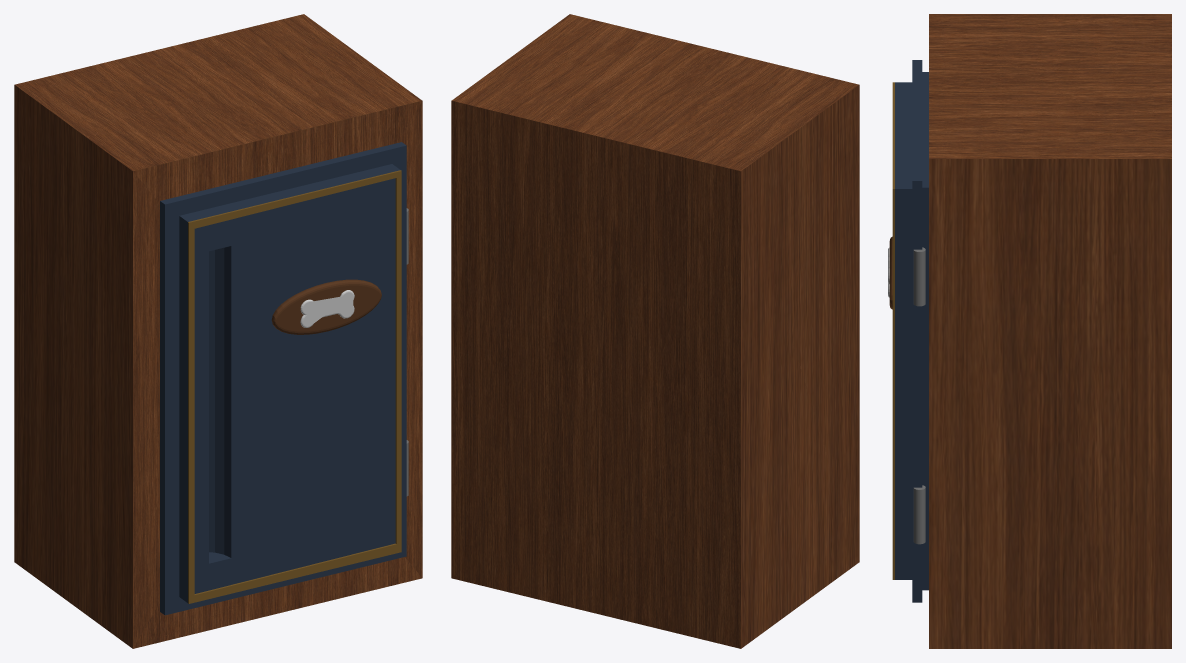
The model's file is Memory_Safe.fbx.
The picture shows the model from 3 angles, left to right: view 1: azimuth 30°, elevation 25°; view 2: azimuth 150°, elevation 25°; view 3: azimuth 270°, elevation 25°; orthographic projection. The views are drawn at different scales.
Visible parts, largest first — view 1: Safe_Body, Safe_Door, Safe_Bone_Charm; view 2: Safe_Body; view 3: Safe_Body, Safe_Door, Safe_Hinge.
Part boxes in pixels (x1=…): Safe_Body: x1=14, y1=14, x2=422, y2=648; Safe_Door: x1=160, y1=142, x2=406, y2=615; Safe_Bone_Charm: x1=300, y1=290, x2=354, y2=327; Safe_Body: x1=451, y1=14, x2=859, y2=648; Safe_Body: x1=929, y1=14, x2=1171, y2=648; Safe_Door: x1=889, y1=60, x2=928, y2=602; Safe_Hinge: x1=913, y1=247, x2=925, y2=544.
Size of the model in its own units: 35.47 by 55.91 by 29.36.
